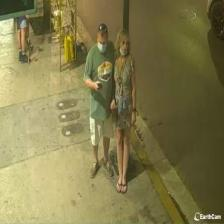person: (83, 23, 116, 177), (110, 28, 136, 192)
